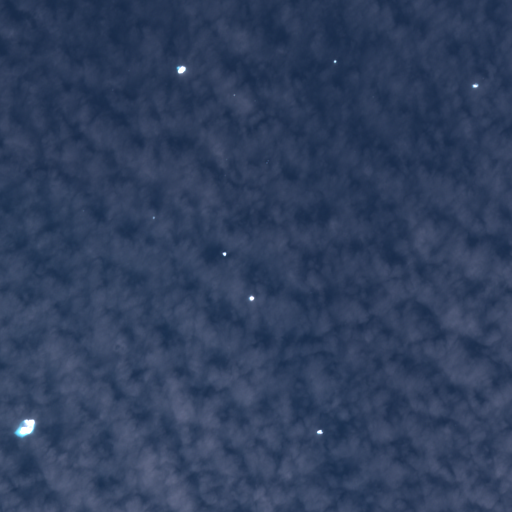Iceberg: (18, 419, 34, 434), (177, 65, 185, 74), (248, 294, 254, 301), (316, 429, 323, 434), (472, 83, 478, 88), (222, 251, 226, 256), (333, 59, 336, 63), (152, 216, 155, 219), (233, 94, 235, 95)
